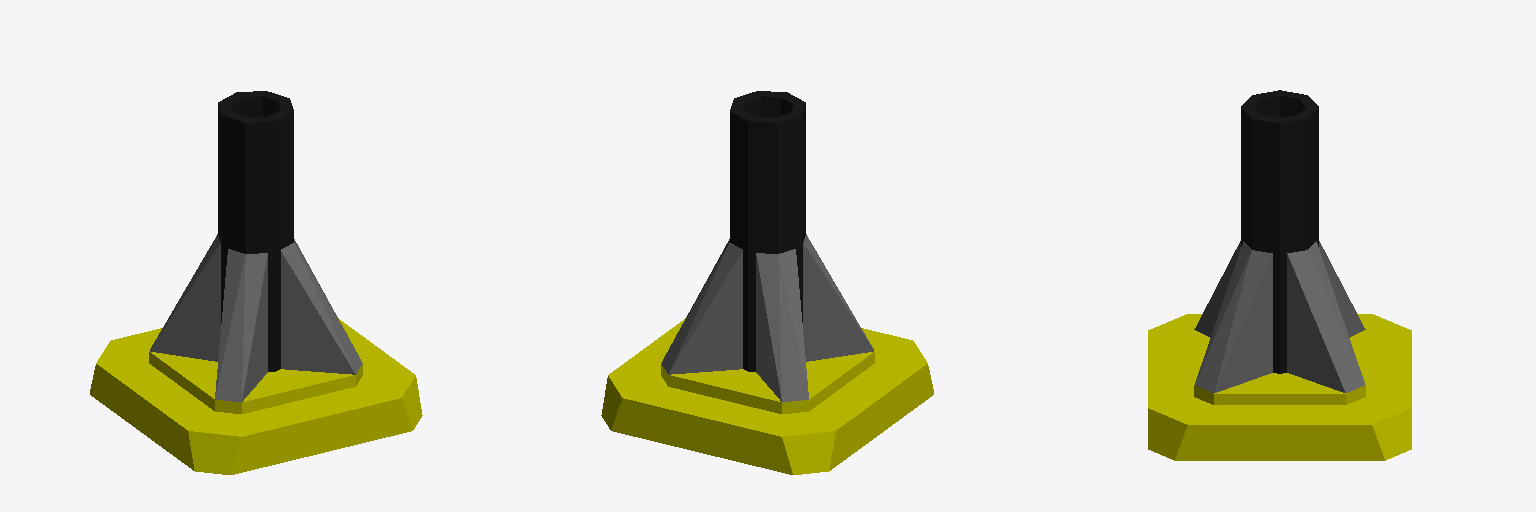
File: launcher.obj
The picture shows the model from 3 angles: view 1: azimuth 30°, elevation 25°; view 2: azimuth 150°, elevation 25°; view 3: azimuth 270°, elevation 25°; orthographic projection.
Parts seen in each view (by area): view 1: Mesh1 Model; view 2: Mesh1 Model; view 3: Mesh1 Model.
Part boxes in pixels (bbox=[...]): Mesh1 Model: bbox=[90, 91, 422, 474]; Mesh1 Model: bbox=[601, 91, 933, 474]; Mesh1 Model: bbox=[1148, 90, 1411, 460].
Size of the model in its own units: 2 by 2.5 by 2.